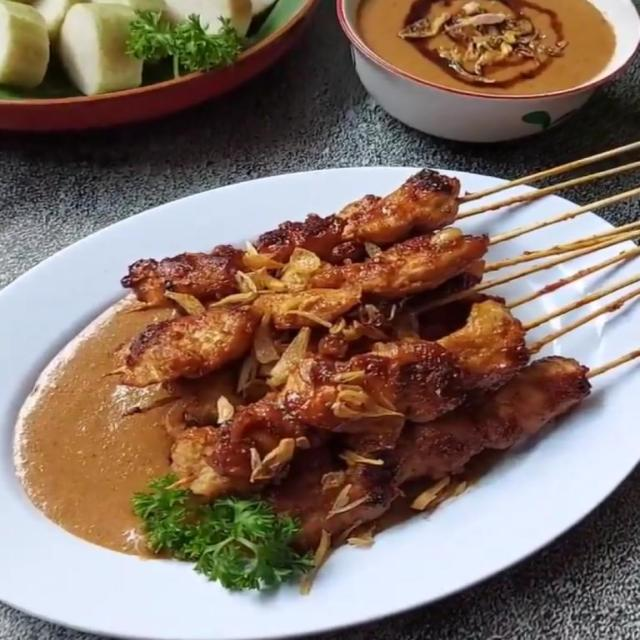Sate: (81, 147, 640, 543)
